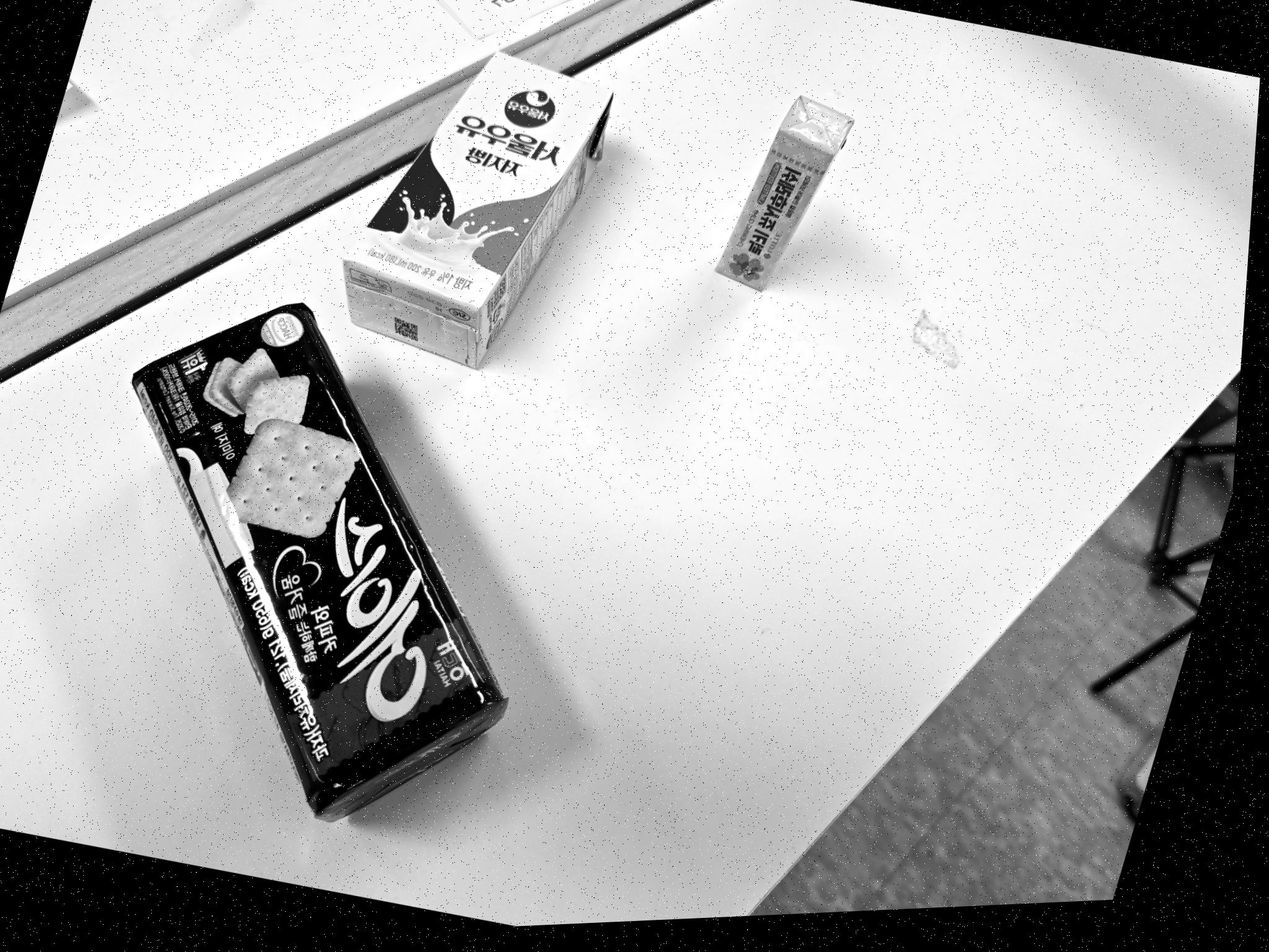cracker_ace: (132, 303, 508, 820), (390, 78, 608, 294)
gum_yellow: (716, 96, 854, 290)
milk_blue: (342, 54, 612, 367)
